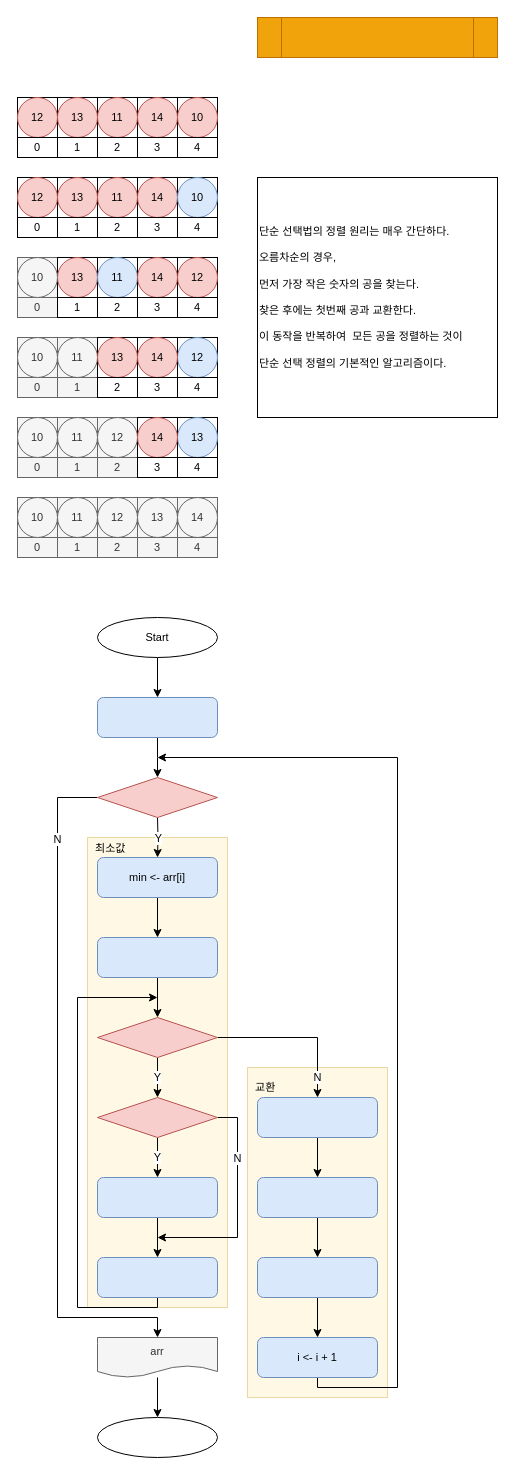
Image size: 515x1475. Some labels were removed from this diagram. The shapes that lost their labels are listed below. From the top down, each one's centre as x and y in pixels, then its label:
At [377,37]: "Selection Sort".
At [157,717]: "arr[] <- {12,13,11,14,10} i <- 0".
At [157,797]: "i < 4".
At [157,957]: "k <- i +1".
At [157,1037]: "K < 5".
At [157,1117]: "arr[k] < min".
At [317,1117]: "temp <- min".
At [157,1197]: "min <- arr[k]".
At [317,1197]: "min<-arr[i]".
At [157,1277]: "k <- k + 1".
At [317,1277]: "arr[i]<- temp".
At [157,1437]: "End".
